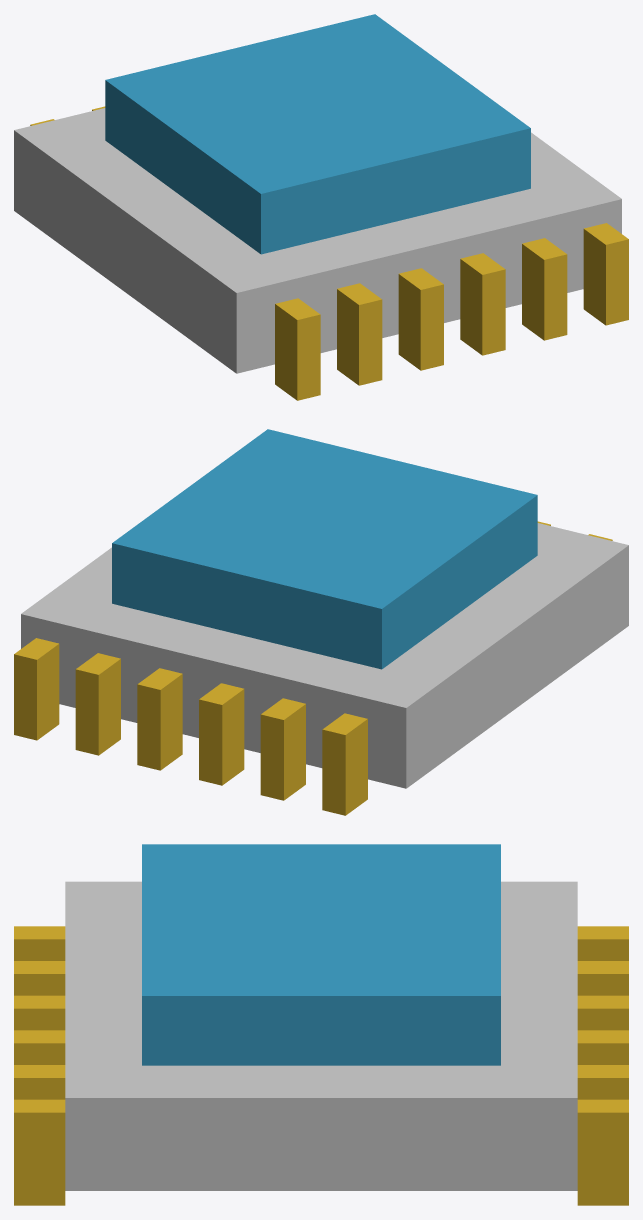
The model's file is guidance_chip.obj.
3 renders of one model, top to bottom at view 1: azimuth 30°, elevation 25°; view 2: azimuth 150°, elevation 25°; view 3: azimuth 270°, elevation 25°, orthographic. The views are drawn at different scales.
Parts seen in each view (by area): view 1: guidance_chip; view 2: guidance_chip; view 3: guidance_chip.
Part boxes in pixels (x1,y1,x2,y2): guidance_chip: [14, 14, 628, 400]; guidance_chip: [14, 429, 628, 815]; guidance_chip: [14, 844, 628, 1205].
Bounding box in the file's own units: 0.2 × 0.08 × 0.24.
